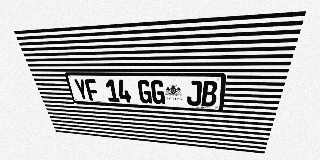1: (104, 79, 120, 102)
4: (116, 79, 132, 103)
B: (201, 81, 218, 107)
F: (84, 79, 100, 101)
G: (137, 80, 152, 104), (150, 80, 165, 104)
J: (187, 81, 202, 106)
Y: (73, 79, 89, 100)
